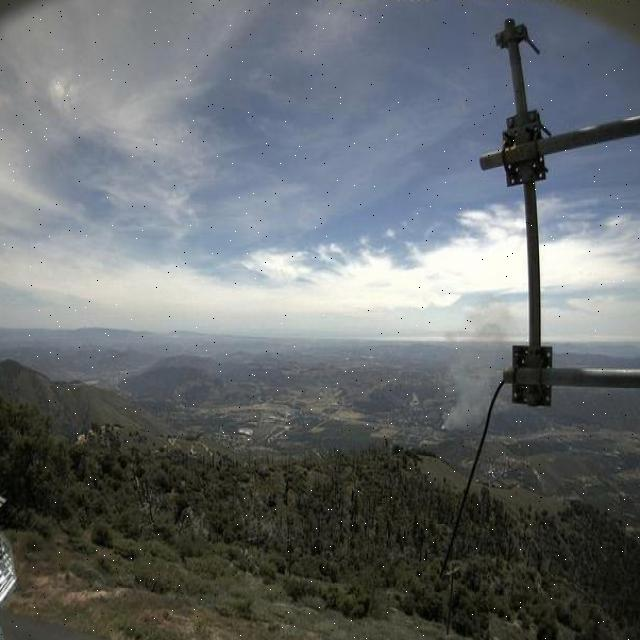smoke: (441, 296, 518, 434)
